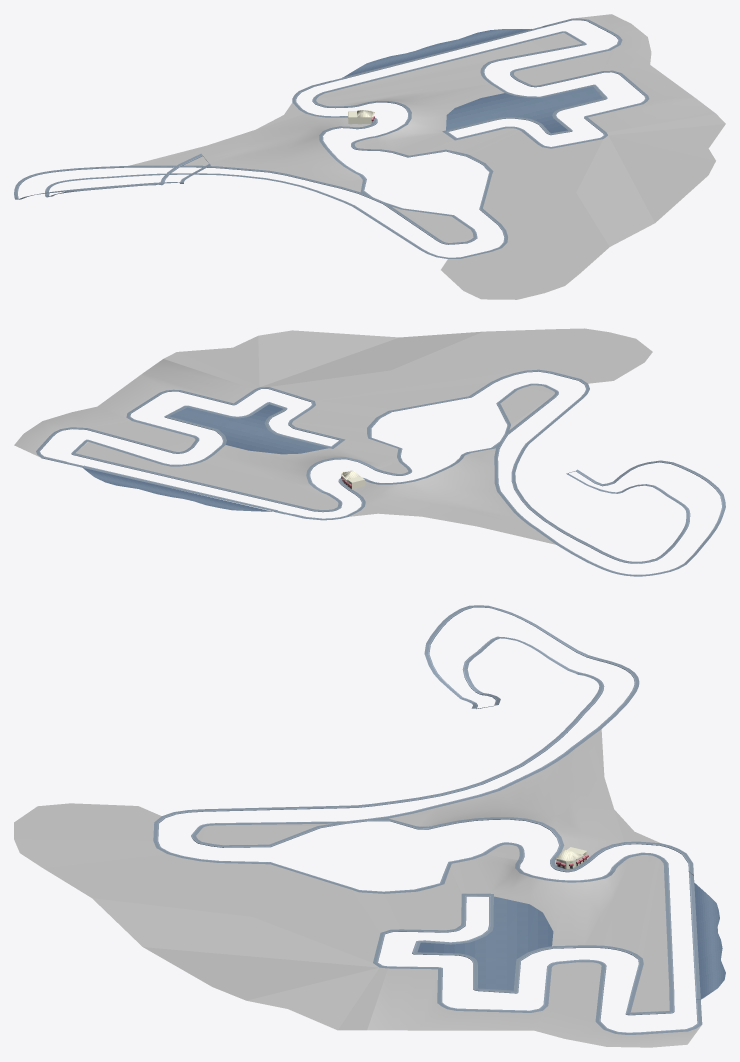
The model's file is Batch_Assets_2.fbx.
The picture shows the model from 3 angles, top to bottom: view 1: azimuth 30°, elevation 25°; view 2: azimuth 150°, elevation 25°; view 3: azimuth 270°, elevation 25°; orthographic projection. The views are drawn at different scales.
Parts seen in each view (by area): view 1: Trottoirs.003, Trottoirs.009, Trottoirs.010; view 2: Trottoirs.003, Trottoirs.009, Trottoirs.010; view 3: Trottoirs.003, Trottoirs.009, Trottoirs.010.
Part boxes in pixels (box(x1,y1,x2,y2)): Trottoirs.003: box(130, 14, 725, 299); Trottoirs.009: box(14, 18, 649, 258); Trottoirs.010: box(344, 29, 602, 133); Trottoirs.003: box(14, 328, 652, 544); Trottoirs.009: box(36, 369, 725, 576); Trottoirs.010: box(84, 404, 328, 511); Trottoirs.003: box(14, 729, 701, 1047); Trottoirs.009: box(153, 605, 708, 1034); Trottoirs.010: box(417, 883, 725, 998).
Size of the model in its own units: 48062 by 3654 by 36223.
